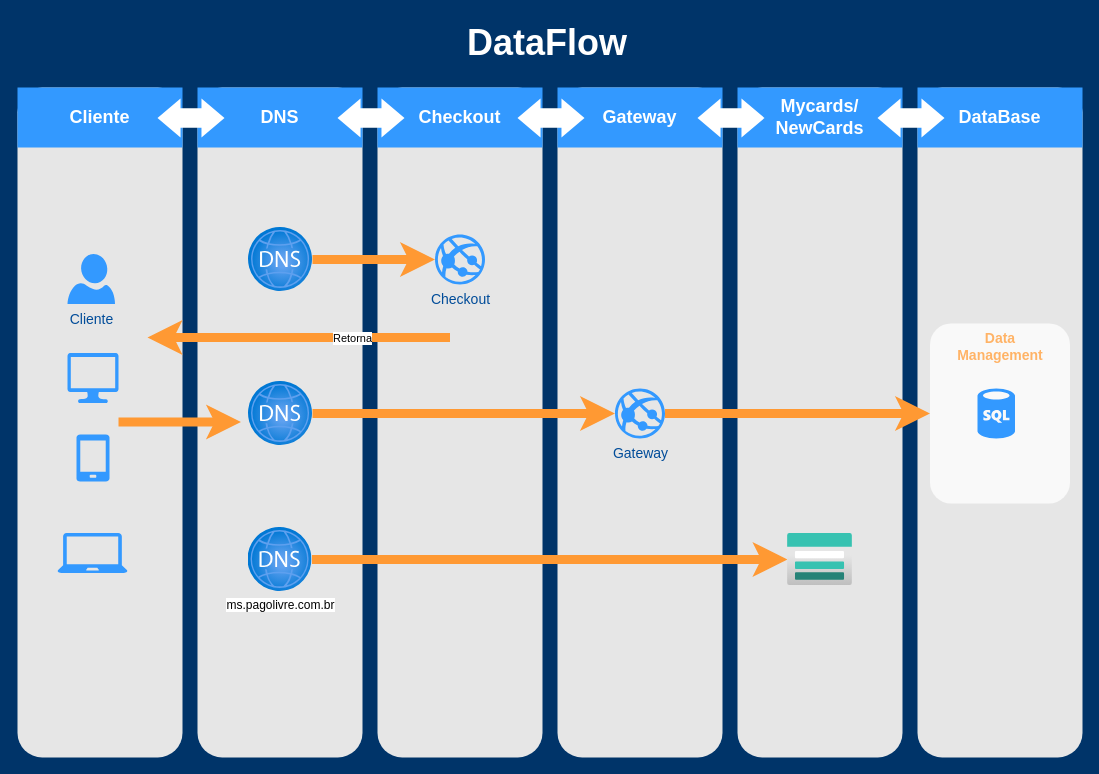
This 1099x774 diagram has some shape labels left out. The centre of each missing label's shape, as x and y in pixels:
"checkout.pagolivre.com.br" belongs at pixel 280 259.
"gateway.pagolivre.com.br" belongs at pixel 280 413.
"Mycards/NewCards" belongs at pixel 819 559.
"SQL Database" belongs at pixel 995 413.
